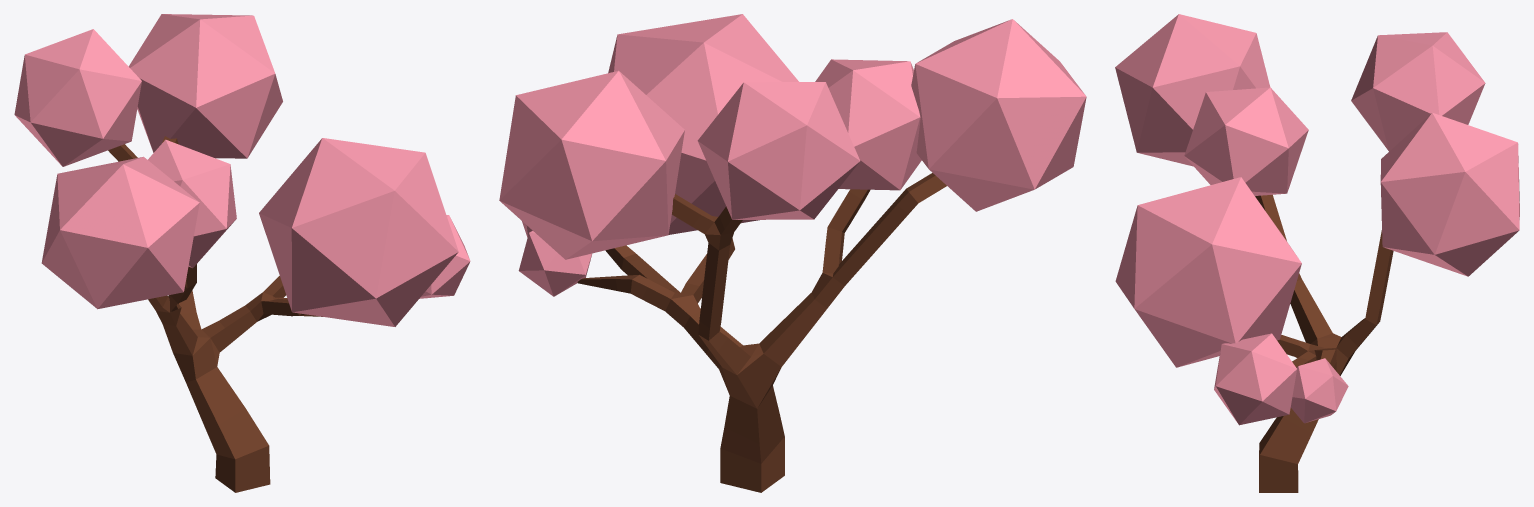
Rendered from Blossom Tree.fbx.
3 renders of one model, left to right at view 1: azimuth 30°, elevation 25°; view 2: azimuth 150°, elevation 25°; view 3: azimuth 270°, elevation 25°, orthographic. The views are drawn at different scales.
Parts seen in each view (by area): view 1: Icosphere.004, Icosphere.002, Icosphere, Icosphere.003, Cube, Icosphere.001, Icosphere.005; view 2: Icosphere, Cube, Icosphere.002, Icosphere.003, Icosphere.004, Icosphere.001, Icosphere.006; view 3: Icosphere.004, Icosphere, Icosphere.002, Icosphere.003, Icosphere.001, Cube, Icosphere.005, Icosphere.006.
Boxes of the visible parts, x1,y1,x2,y2 form: Icosphere.004: [259, 138, 458, 326]; Icosphere.002: [41, 156, 199, 309]; Icosphere: [128, 14, 282, 158]; Icosphere.003: [14, 29, 141, 166]; Cube: [108, 136, 322, 492]; Icosphere.001: [148, 139, 236, 267]; Icosphere.005: [419, 215, 470, 298]; Icosphere: [499, 70, 684, 259]; Cube: [577, 173, 946, 492]; Icosphere.002: [911, 19, 1086, 211]; Icosphere.003: [697, 82, 860, 219]; Icosphere.004: [608, 14, 798, 234]; Icosphere.001: [815, 59, 921, 190]; Icosphere.006: [518, 231, 591, 296]; Icosphere.004: [1115, 177, 1301, 367]; Icosphere: [1380, 112, 1519, 276]; Icosphere.002: [1115, 14, 1270, 166]; Icosphere.003: [1351, 32, 1485, 151]; Icosphere.001: [1184, 87, 1308, 195]; Cube: [1255, 194, 1393, 492]; Icosphere.005: [1214, 333, 1296, 425]; Icosphere.006: [1290, 358, 1348, 423].
Size of the model in its own units: 511 by 450 by 408.
